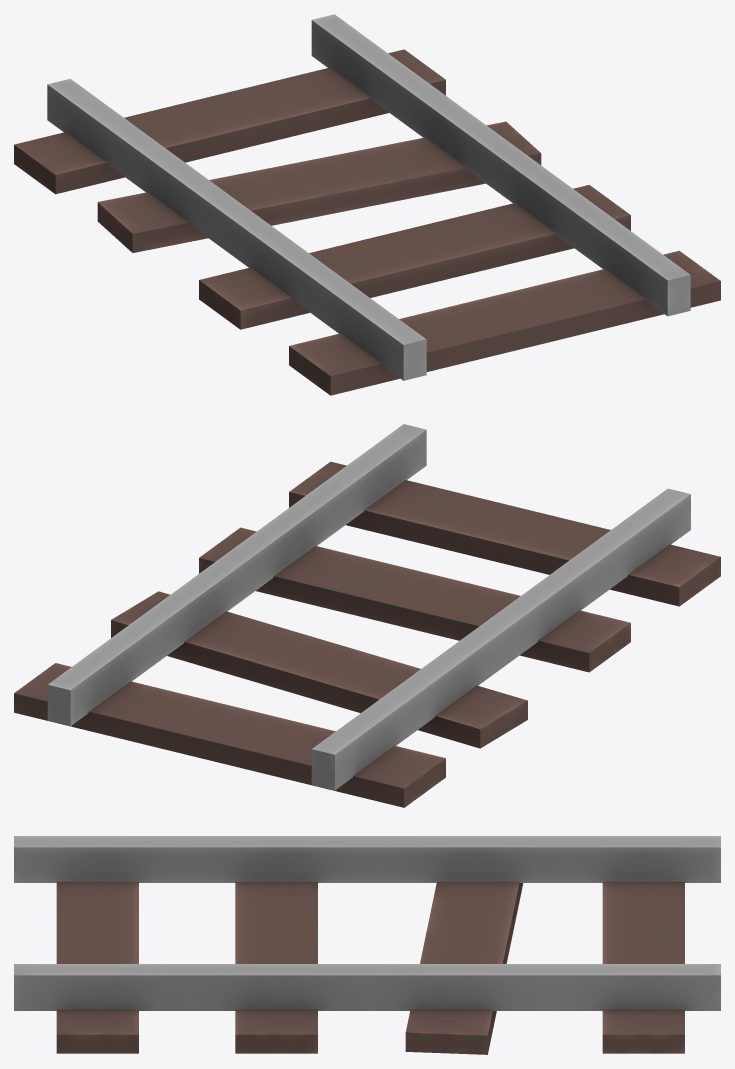
File: RailsObject_0.fbx
The picture shows the model from 3 angles, top to bottom: view 1: azimuth 30°, elevation 25°; view 2: azimuth 150°, elevation 25°; view 3: azimuth 270°, elevation 25°; orthographic projection.
Visible parts, largest first — view 1: RailsObject_0; view 2: RailsObject_0; view 3: RailsObject_0.
Part boxes in pixels (x1,y1,x2,y2): RailsObject_0: (14, 14, 720, 395); RailsObject_0: (14, 424, 720, 807); RailsObject_0: (14, 836, 720, 1054).
Bounding box in the file's own units: 42.69 × 5.56 × 66.61.
